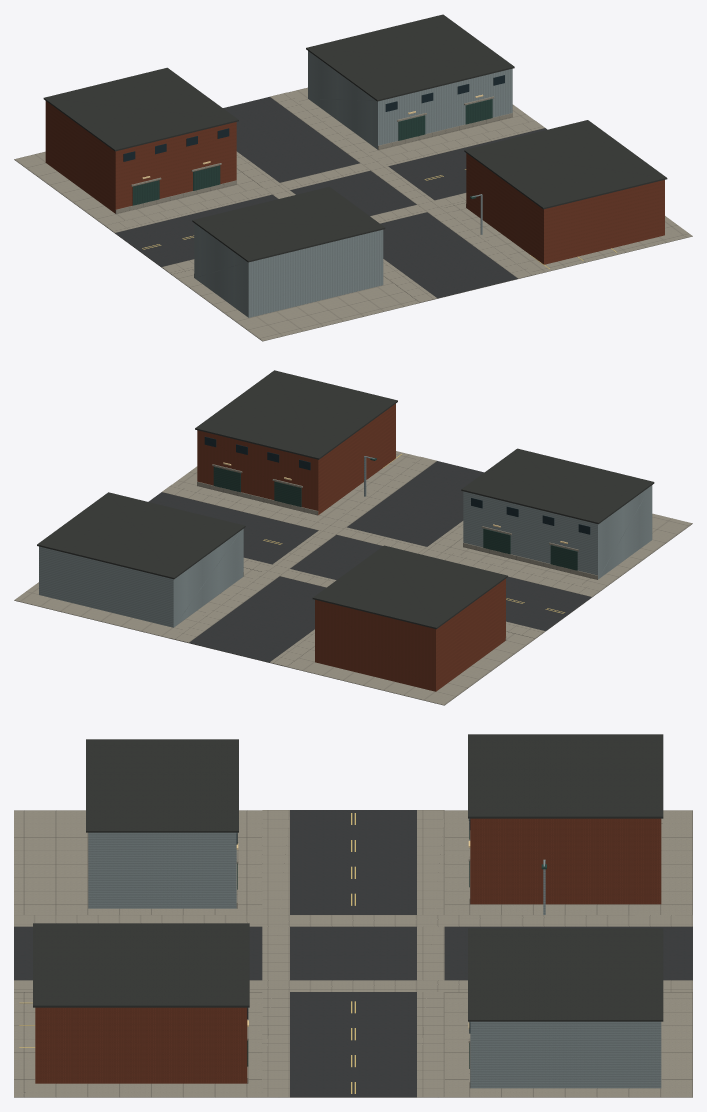
The model's file is industrial_1_0.glb.
The picture shows the model from 3 angles, top to bottom: view 1: azimuth 30°, elevation 25°; view 2: azimuth 150°, elevation 25°; view 3: azimuth 270°, elevation 25°; orthographic projection. The views are drawn at different scales.
Parts seen in each view (by area): view 1: Freight Yard / North south street, Freight Yard / Yard paving, Freight Yard / Building 3 shell, Freight Yard / Building 2 shell, Freight Yard / Building 0 shell, Freight Yard / Building 1 roof, Freight Yard / Building 3 roof, Freight Yard / Building 0 roof, Freight Yard / Building 1 shell, Freight Yard / Building 2 roof, Freight Yard / East west street, Freight Yard / Street walk X 1 (+9 smaller); view 2: Freight Yard / North south street, Freight Yard / Yard paving, Freight Yard / Building 0 shell, Freight Yard / Building 1 shell, Freight Yard / Building 1 roof, Freight Yard / Building 3 roof, Freight Yard / Building 3 shell, Freight Yard / Building 0 roof, Freight Yard / Building 2 shell, Freight Yard / Building 2 roof, Freight Yard / East west street, Freight Yard / Street walk X 1 (+9 smaller); view 3: Freight Yard / Yard paving, Freight Yard / East west street, Freight Yard / Building 3 roof, Freight Yard / Building 1 roof, Freight Yard / Building 0 roof, Freight Yard / Building 0 shell, Freight Yard / Building 3 shell, Freight Yard / Building 2 roof, Freight Yard / Building 1 shell, Freight Yard / North south street, Freight Yard / Building 2 shell, Freight Yard / Street walk X -1 (+3 smaller).
Part boxes in pixels (x1,y1,x2,y2): Freight Yard / North south street: (223, 97, 517, 298); Freight Yard / Yard paving: (14, 87, 692, 341); Freight Yard / Building 3 shell: (466, 153, 664, 264); Freight Yard / Building 2 shell: (194, 223, 383, 317); Freight Yard / Building 0 shell: (45, 101, 236, 213); Freight Yard / Building 1 roof: (306, 14, 514, 101); Freight Yard / Building 3 roof: (464, 120, 667, 209); Freight Yard / Building 0 roof: (43, 67, 238, 151); Freight Yard / Building 1 shell: (308, 51, 512, 149); Freight Yard / Building 2 roof: (192, 186, 385, 262); Freight Yard / East west street: (115, 128, 547, 266); Freight Yard / Street walk X 1: (270, 92, 535, 278); Freight Yard / North south street: (189, 461, 484, 662); Freight Yard / Yard paving: (14, 451, 692, 705); Freight Yard / Building 0 shell: (315, 579, 505, 691); Freight Yard / Building 1 shell: (39, 529, 243, 627); Freight Yard / Building 1 roof: (37, 492, 245, 579); Freight Yard / Building 3 roof: (195, 370, 397, 459); Freight Yard / Building 3 shell: (197, 404, 395, 514); Freight Yard / Building 0 roof: (312, 545, 507, 629); Freight Yard / Building 2 shell: (463, 485, 652, 579); Freight Yard / Building 2 roof: (461, 448, 654, 524); Freight Yard / East west street: (148, 492, 591, 630); Freight Yard / Street walk X 1: (171, 456, 436, 642); Freight Yard / Yard paving: (14, 810, 692, 1097); Freight Yard / East west street: (290, 810, 416, 1097); Freight Yard / Building 3 roof: (33, 923, 249, 1007); Freight Yard / Building 1 roof: (468, 928, 663, 1021); Freight Yard / Building 0 roof: (468, 734, 663, 818); Freight Yard / Building 0 shell: (470, 818, 661, 904); Freight Yard / Building 3 shell: (35, 1007, 247, 1083); Freight Yard / Building 2 roof: (86, 739, 238, 832); Freight Yard / Building 1 shell: (470, 1021, 661, 1088); Freight Yard / North south street: (14, 926, 692, 980); Freight Yard / Building 2 shell: (88, 832, 236, 908); Freight Yard / Street walk X -1: (14, 915, 692, 926).
Bounding box in the file's own units: 64 × 9.26 × 64.
9 materials, 9 textured.
